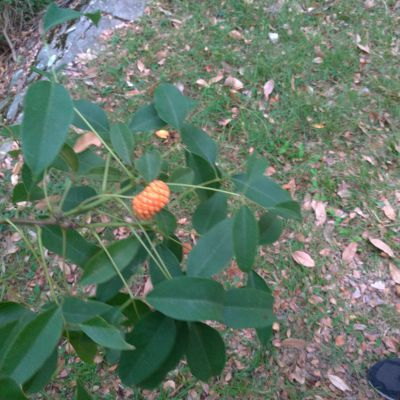eggs: (129, 177, 178, 217)
